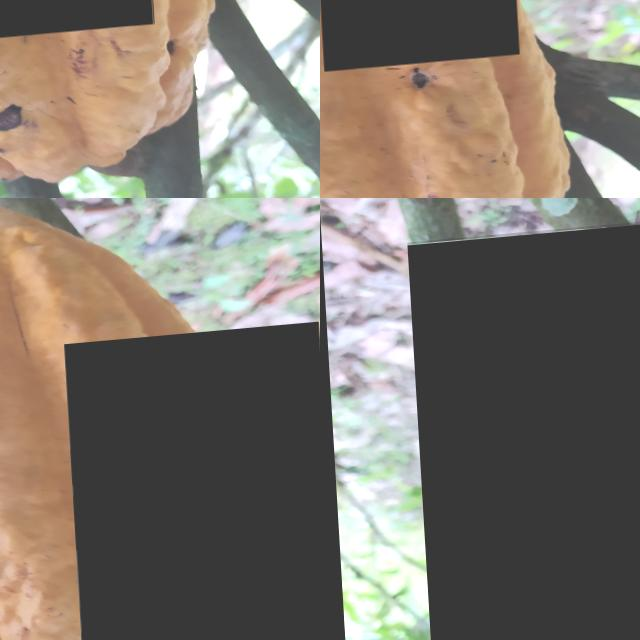Monilia: (320, 0, 516, 76)
Sana: (406, 215, 640, 640), (61, 332, 320, 640)
